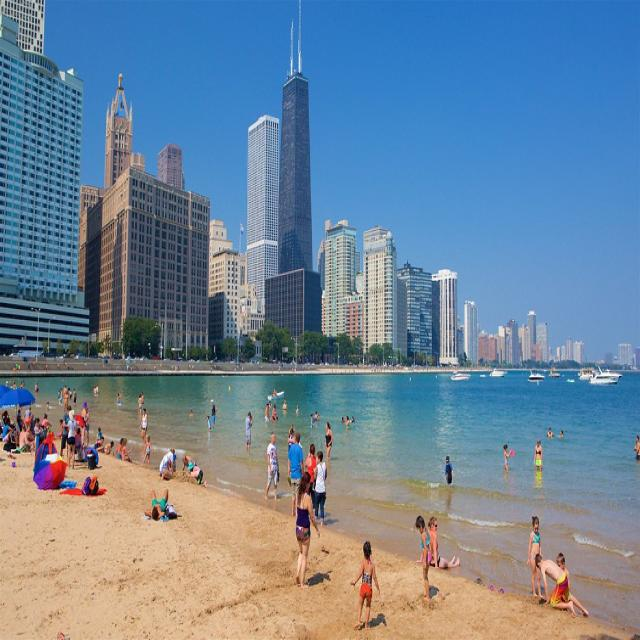body: (534, 551, 589, 619), (294, 470, 321, 589), (348, 538, 382, 630), (415, 512, 462, 571), (119, 357, 269, 371), (412, 514, 433, 602), (524, 515, 545, 602), (286, 429, 305, 518), (269, 356, 362, 374), (10, 357, 120, 372), (312, 449, 327, 528), (264, 429, 280, 502), (143, 484, 169, 521), (360, 358, 427, 372), (304, 443, 317, 513), (580, 625, 640, 640), (556, 551, 572, 602), (66, 406, 78, 471), (428, 359, 492, 371), (60, 408, 73, 460), (306, 564, 334, 586), (158, 445, 176, 478), (18, 422, 36, 454), (361, 608, 388, 629), (323, 420, 334, 471), (187, 460, 207, 488), (71, 426, 84, 462), (546, 423, 564, 449), (337, 410, 356, 431), (33, 416, 42, 460), (141, 433, 152, 469), (54, 384, 72, 406), (1, 417, 15, 444), (80, 400, 90, 437), (2, 408, 15, 436), (180, 453, 198, 473), (533, 437, 543, 473), (24, 422, 38, 447), (3, 376, 26, 391), (83, 405, 91, 448), (245, 410, 253, 453), (140, 406, 148, 446), (444, 455, 454, 486), (121, 436, 132, 464), (502, 443, 512, 472), (93, 434, 106, 453), (41, 413, 53, 433), (210, 396, 217, 429), (23, 405, 33, 426), (58, 418, 64, 452), (264, 400, 270, 433), (633, 434, 640, 462), (103, 438, 114, 455), (117, 437, 124, 461), (205, 414, 213, 434), (64, 388, 70, 414), (97, 426, 103, 448), (39, 422, 51, 433), (270, 387, 280, 400), (294, 400, 300, 420), (92, 381, 100, 395), (115, 390, 122, 406), (272, 404, 278, 422), (172, 451, 177, 472), (16, 407, 22, 422), (45, 399, 51, 414), (138, 393, 142, 414), (72, 387, 76, 408), (24, 413, 33, 422), (140, 391, 144, 411), (314, 409, 320, 422), (282, 398, 288, 409), (34, 380, 38, 394), (190, 409, 193, 420)
